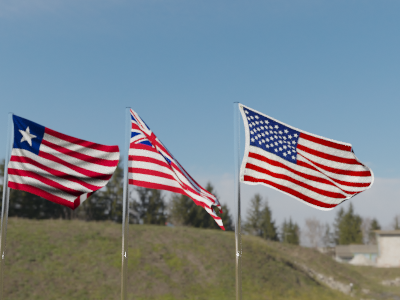America flag: (240, 104, 377, 212)
Liberia flag: (10, 109, 119, 209)
Malaysia flag: (135, 109, 226, 226)
